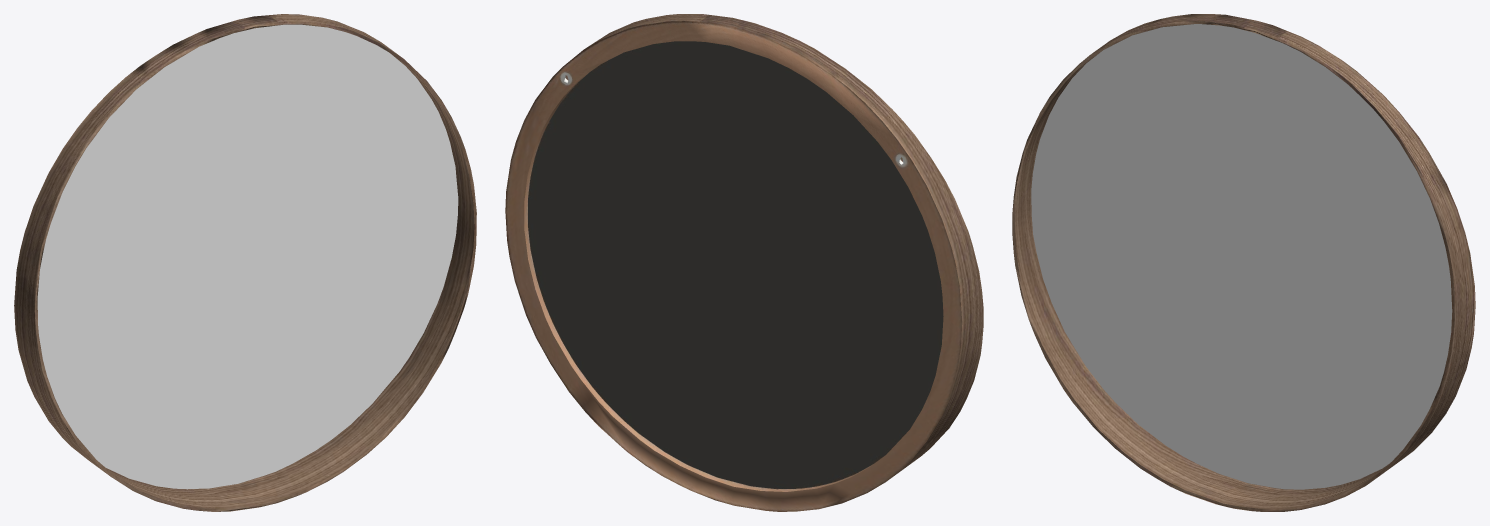
File: LB-MIRROR-03.glb
3 views of the same model, side by side, from view 1: azimuth 30°, elevation 25°; view 2: azimuth 150°, elevation 25°; view 3: azimuth 330°, elevation 25° (orthographic). The views are drawn at different scales.
Parts seen in each view (by area): view 1: 2, ProcessedMeshNode; view 2: ProcessedMeshNode; view 3: 2, ProcessedMeshNode.
Part boxes in pixels (x1=…): 2: x1=37, y1=24, x2=458, y2=489; ProcessedMeshNode: x1=14, y1=14, x2=476, y2=511; ProcessedMeshNode: x1=505, y1=14, x2=983, y2=511; 2: x1=1031, y1=24, x2=1452, y2=489; ProcessedMeshNode: x1=1012, y1=14, x2=1475, y2=511.
Size of the model in its own units: 0.8005 by 0.8004 by 0.1004.
Materials: 2 (2 with a texture image).
